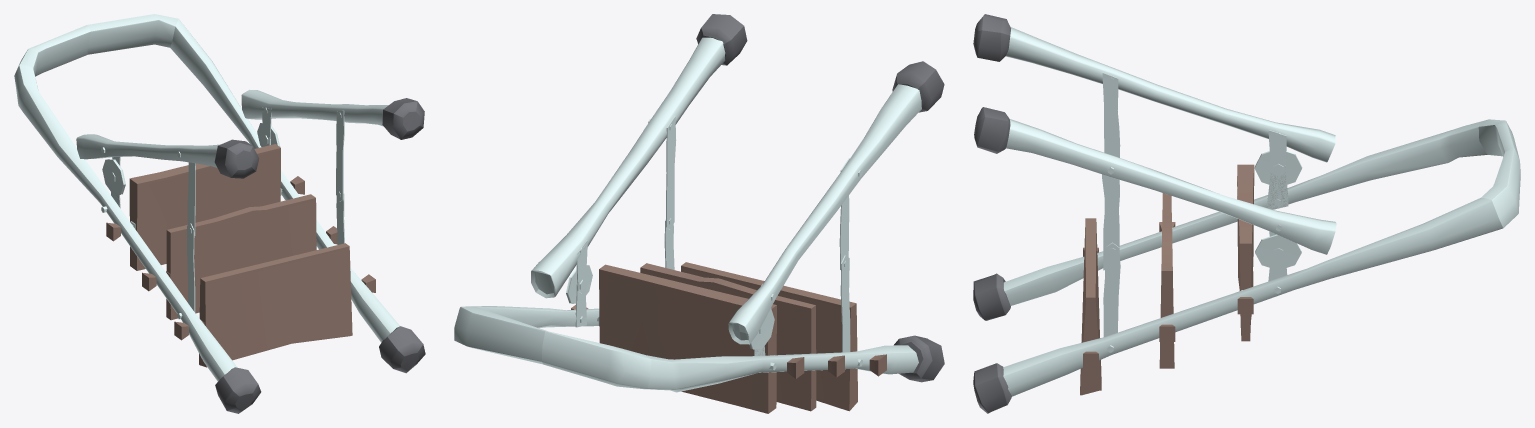
The model's file is escabot.fbx.
3 views of the same model, side by side, from view 1: azimuth 30°, elevation 25°; view 2: azimuth 150°, elevation 25°; view 3: azimuth 270°, elevation 25° (orthographic). The views are drawn at different scales.
Parts seen in each view (by area): view 1: export_escabot; view 2: export_escabot; view 3: export_escabot.
Part boxes in pixels (x1,y1,x2,y2): export_escabot: (14, 14, 425, 413); export_escabot: (454, 14, 944, 413); export_escabot: (973, 14, 1520, 413).
Size of the model in its own units: 58.42 by 75.52 by 123.
